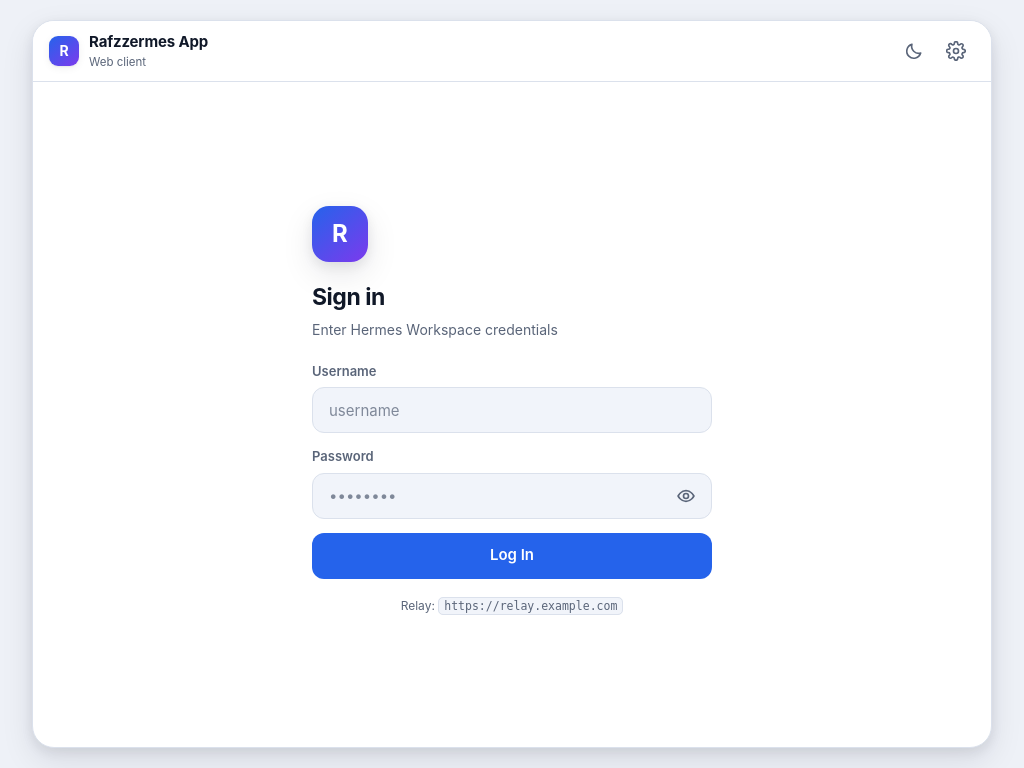
App (rendered in jsdom) › validates empty credentials with the Dart wording
The image size is (1024, 768).
Click the button "Log In": (512, 556) [312,532,712,578]
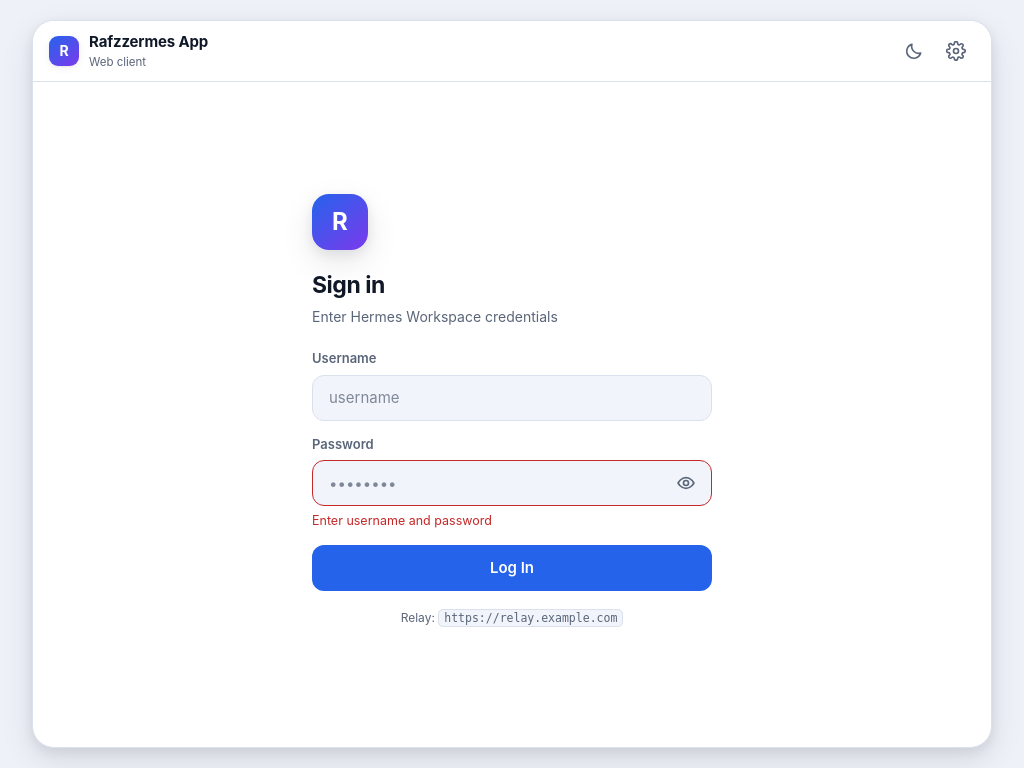
Expected: the text "Enter username and password" is shown, [312,513,492,528]
